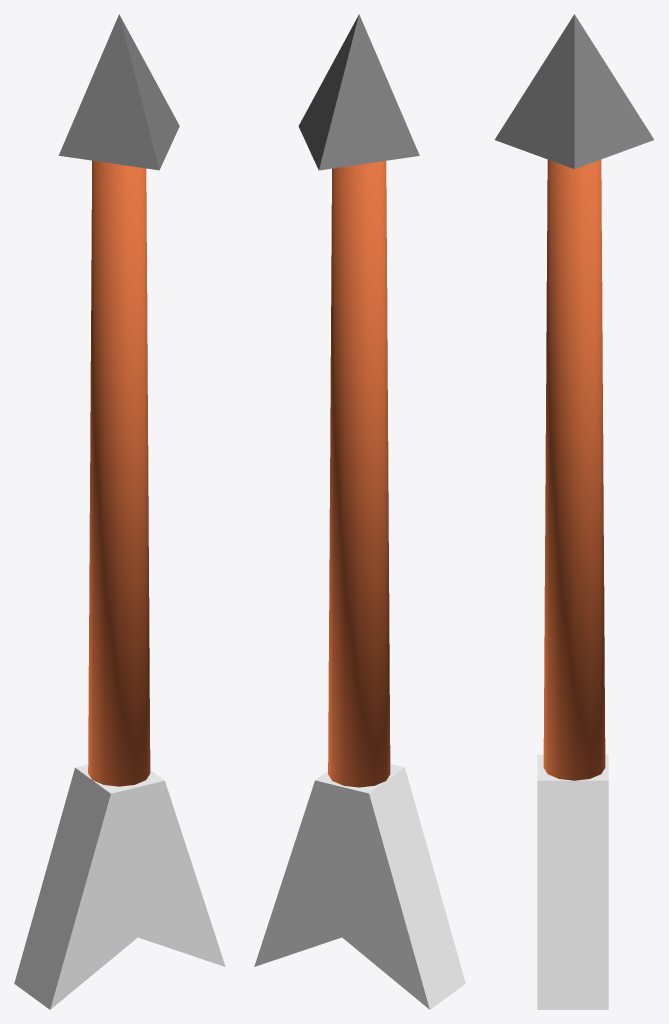
Rendered from FLECHA.fbx.
3 views of the same model, side by side, from view 1: azimuth 30°, elevation 25°; view 2: azimuth 150°, elevation 25°; view 3: azimuth 270°, elevation 25° (orthographic).
Visible parts, largest first — view 1: Cylinder; view 2: Cylinder; view 3: Cylinder.
Boxes of the visible parts, x1,y1,x2,y2 form: Cylinder: (14, 14, 225, 1009); Cylinder: (254, 14, 465, 1009); Cylinder: (494, 14, 654, 1009).
Size of the model in its own units: 1037 by 5422 by 825.
